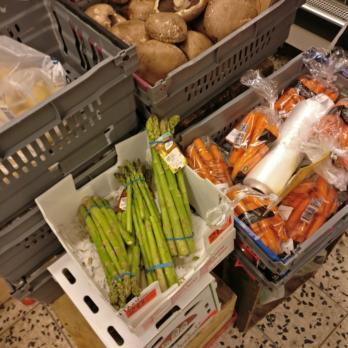Asparagus: (115, 104, 205, 281), (76, 189, 152, 298)
